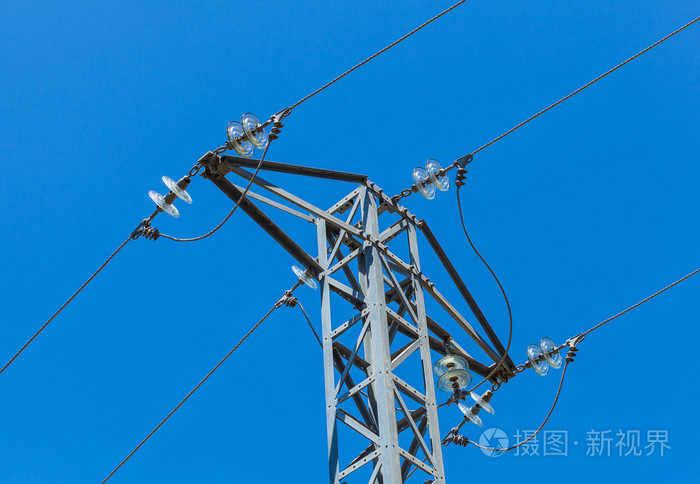insulator: (226, 110, 270, 155), (148, 172, 192, 215), (411, 159, 450, 200), (456, 392, 496, 427), (529, 337, 565, 374), (435, 355, 474, 389)
